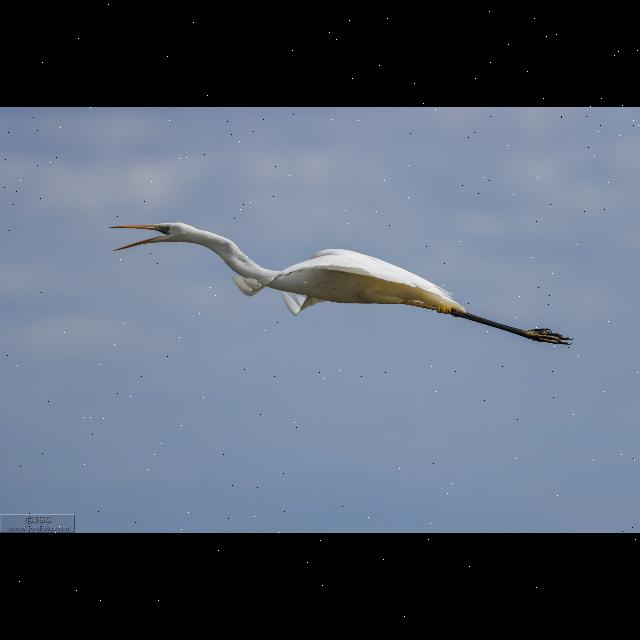egret: (102, 212, 594, 360)
